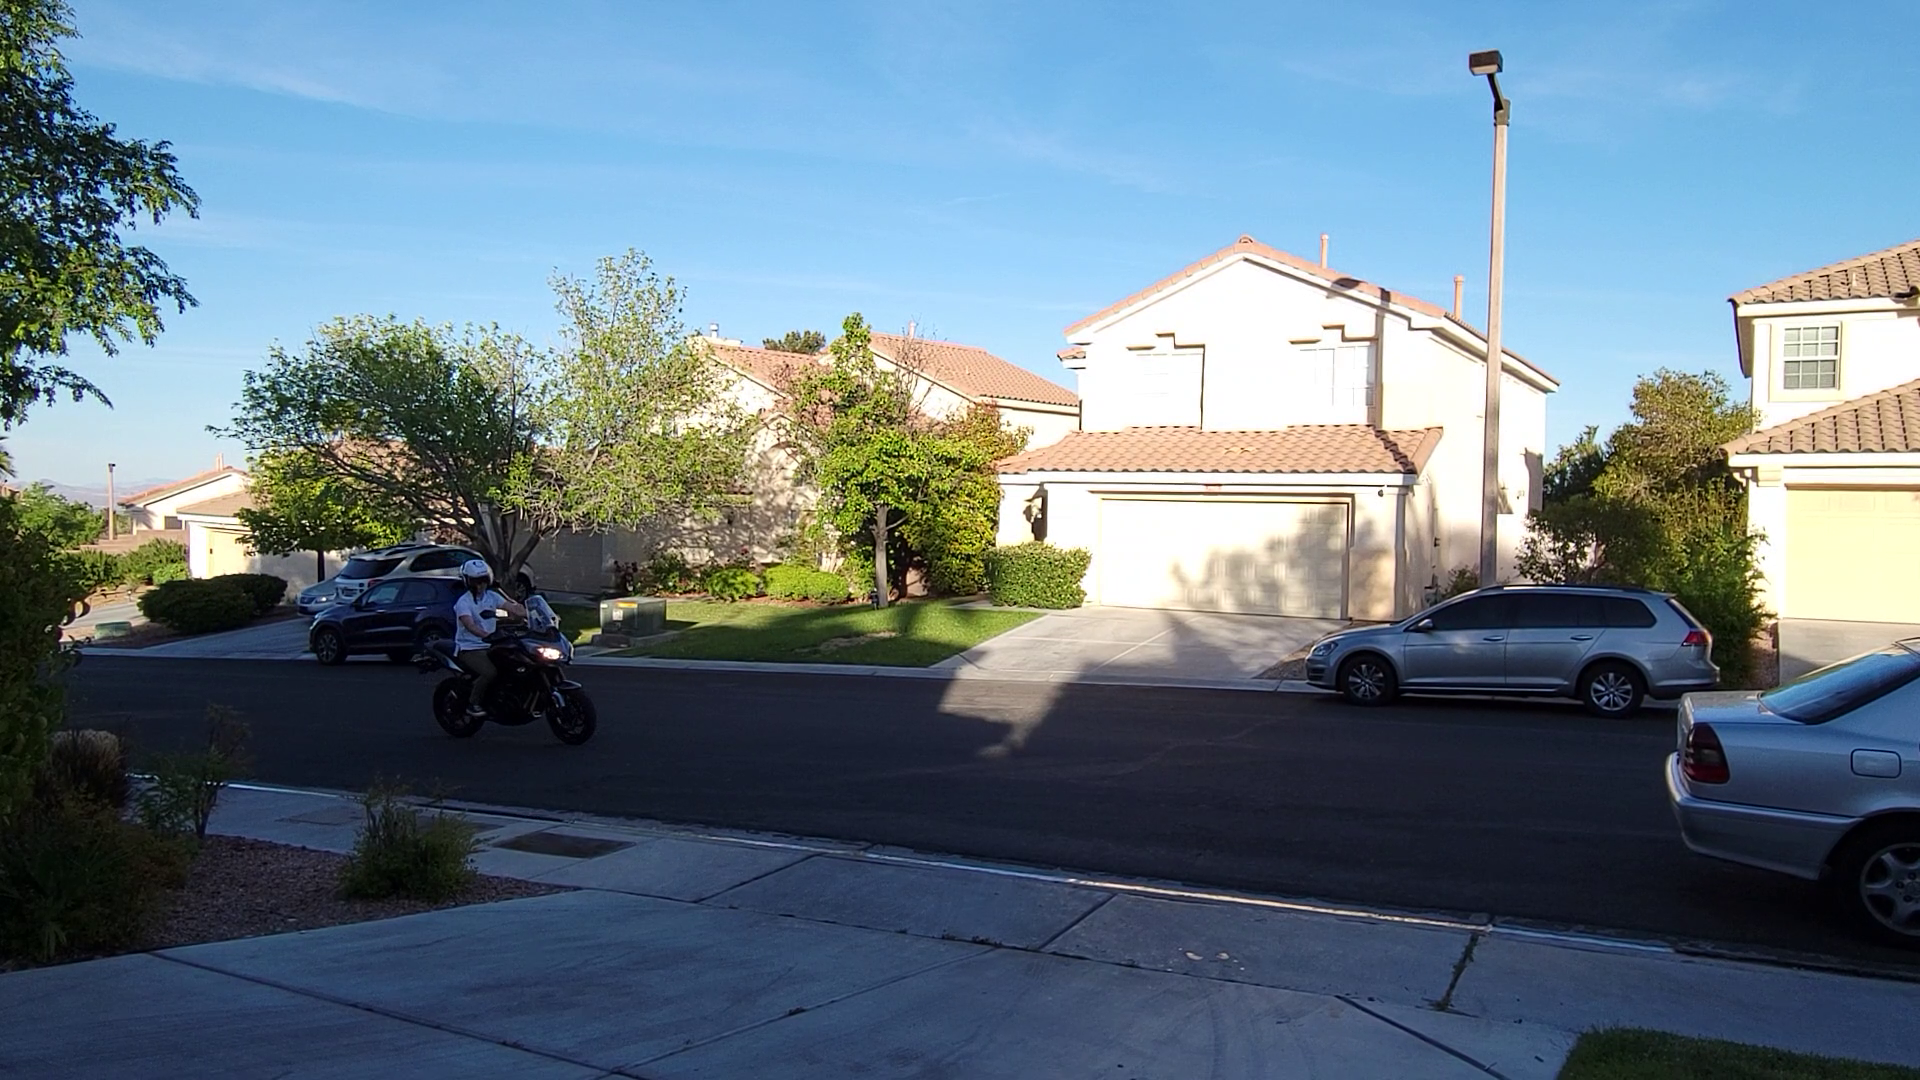my bike: (409, 555, 603, 746)
